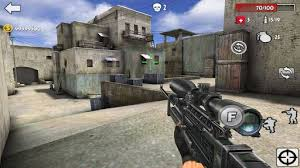gun: (157, 77, 273, 166)
